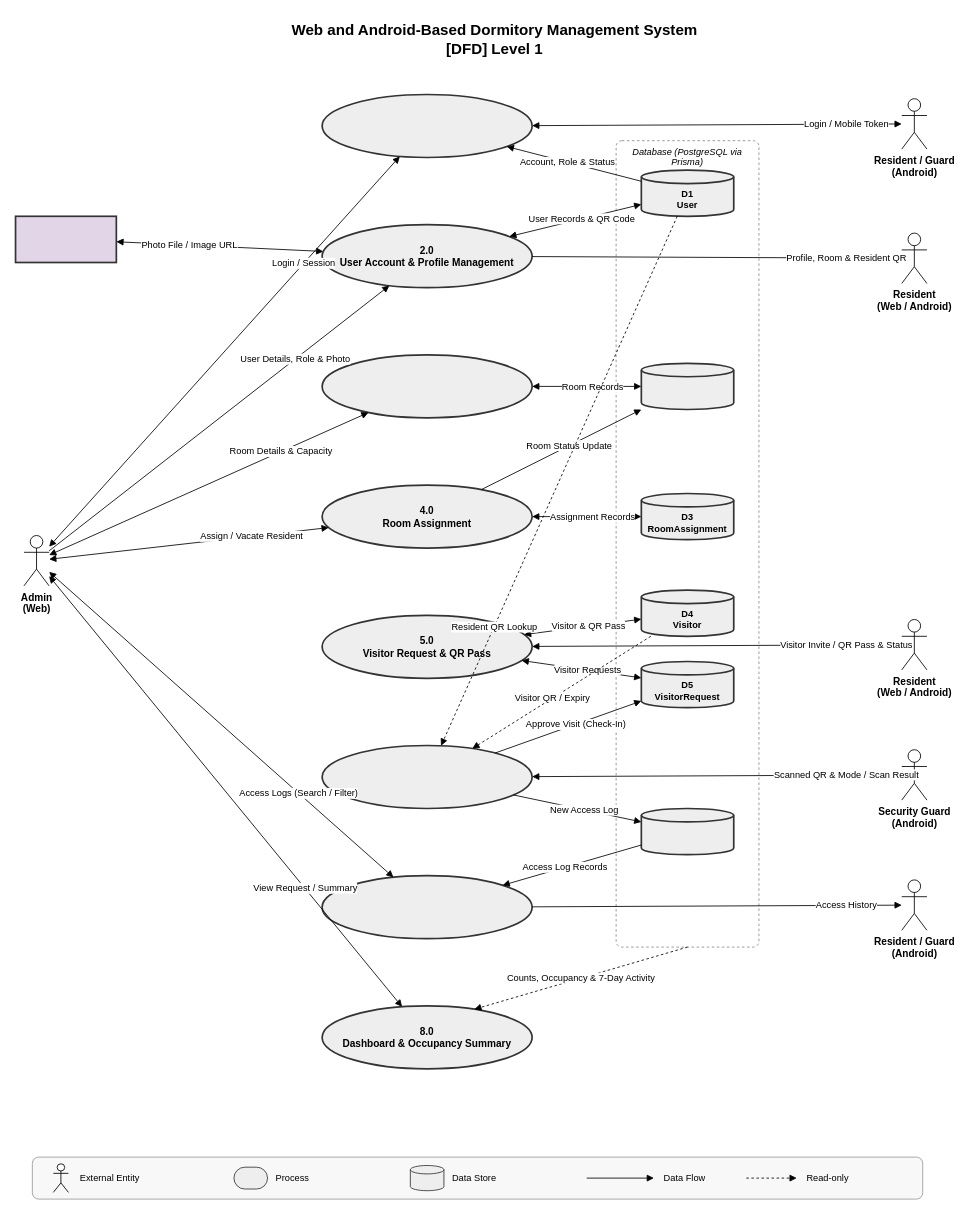
Some shapes in this 969 by 1214 pixel diagram are drawn without their labels. The shapes that lost their labels are listed below. From the top down, each one's centre as x and y in pixels, then its label:
At (427,125): "1.0 Authentication".
At (65,239): "Cloudinary (Image Storage)".
At (427,386): "3.0 Room Management".
At (687,386): "D2 Room".
At (427,776): "6.0 QR Gate Access Control".
At (687,831): "D6 AccessLog".
At (427,906): "7.0 Access Log Monitoring".
